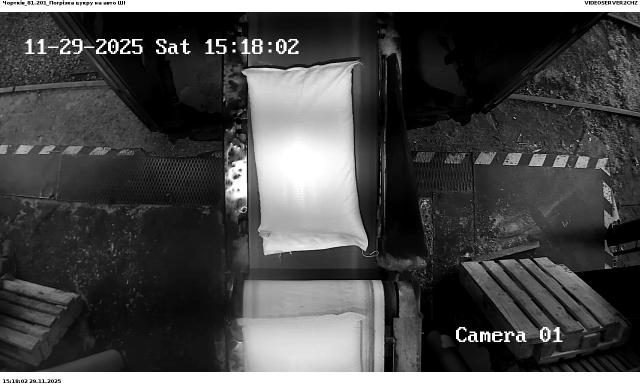bag: (242, 62, 370, 256), (236, 312, 370, 372)
